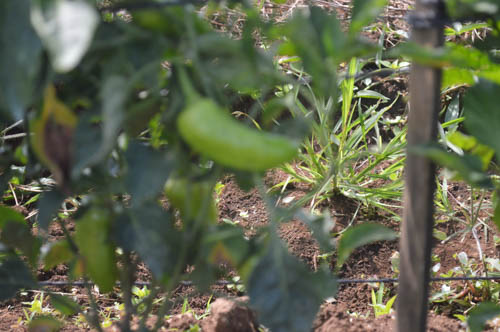ChiliPepper: (180, 101, 303, 178), (78, 211, 121, 288)
